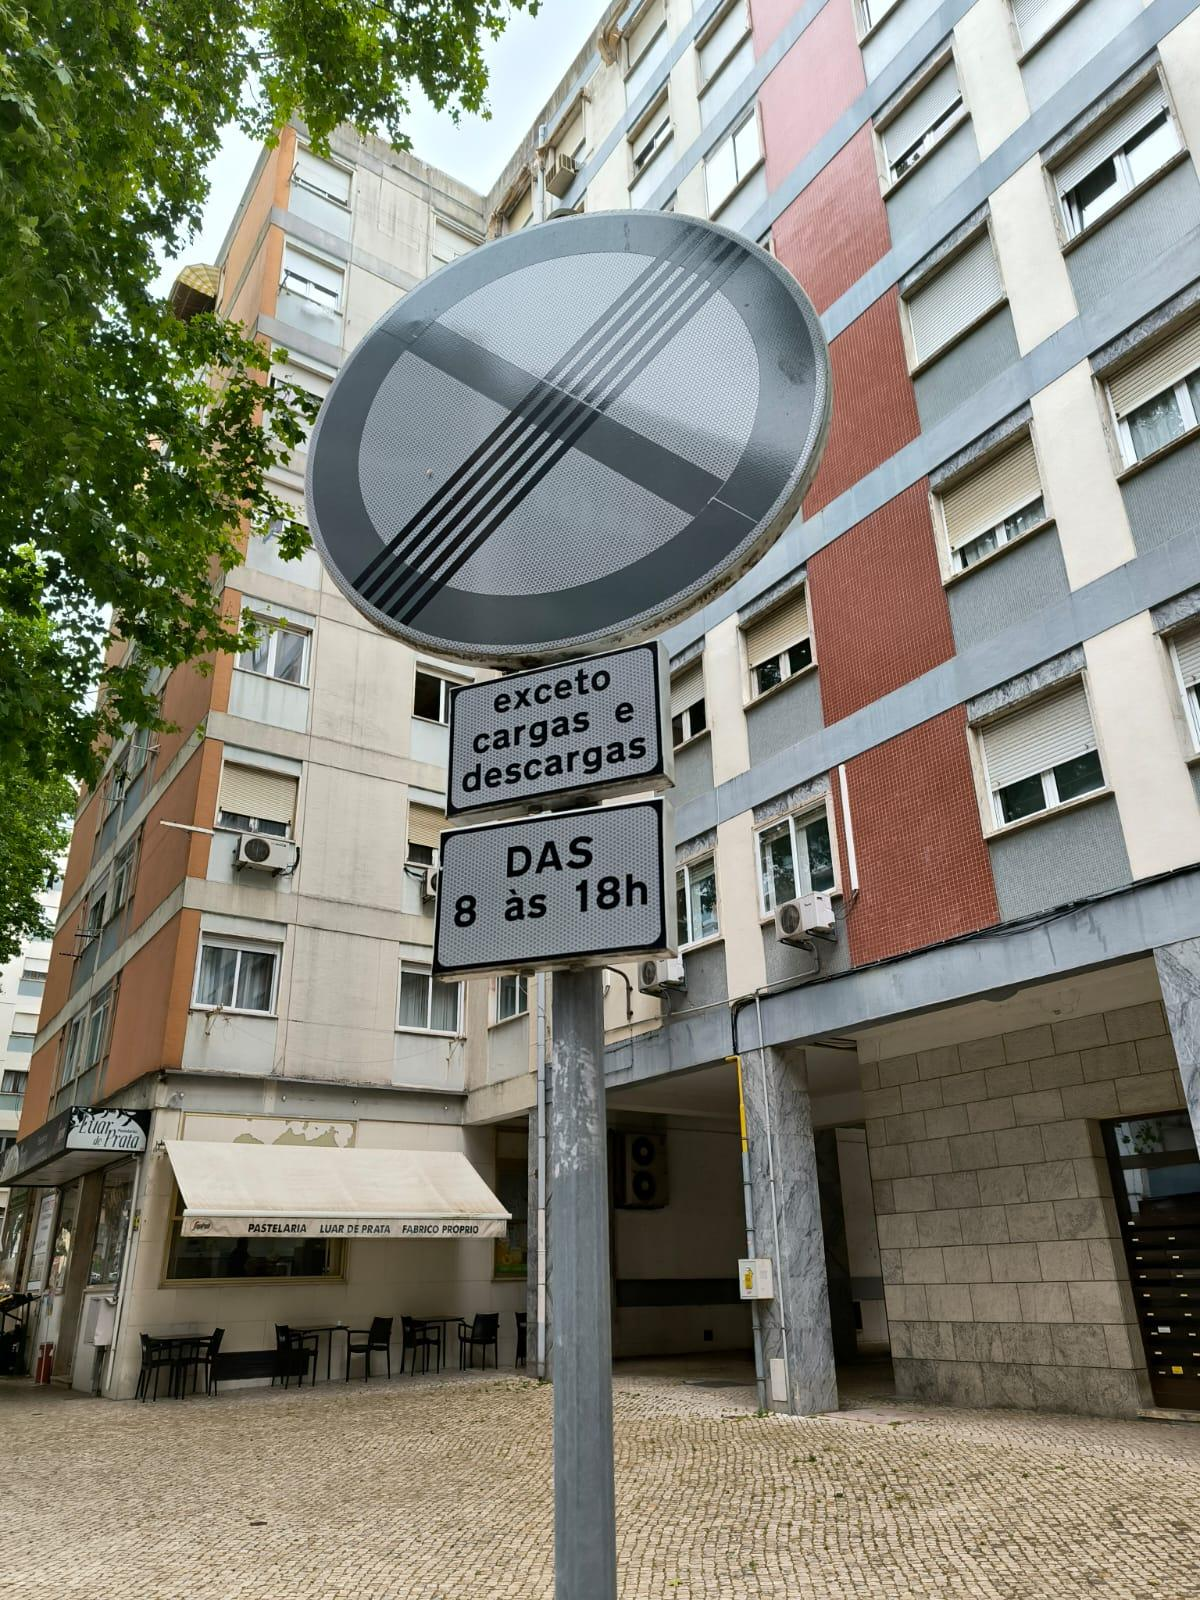Fim da paragem ou estacionamento proibidos: (228, 134, 906, 738)
